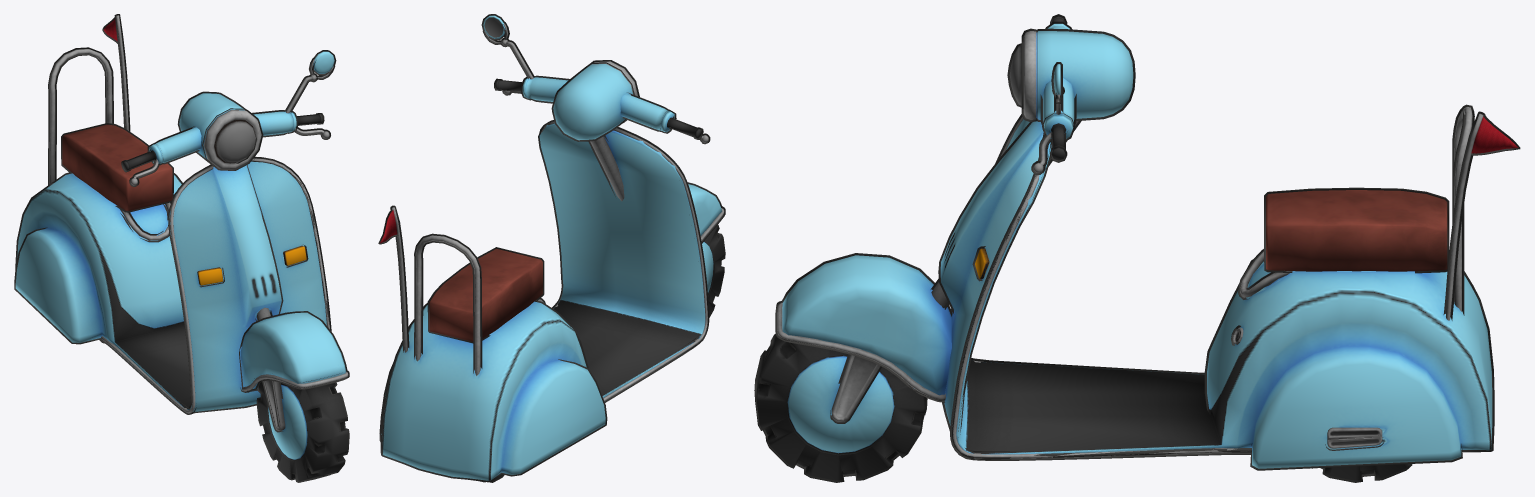
The model's file is motorbike.glb.
3 renders of one model, left to right at view 1: azimuth 30°, elevation 25°; view 2: azimuth 150°, elevation 25°; view 3: azimuth 270°, elevation 25°, orthographic. The views are drawn at different scales.
Parts seen in each view (by area): view 1: Cube.005, Cube.009; view 2: Cube.005, Cube.009; view 3: Cube.005, Cube.009.
Part boxes in pixels (<box>): Cube.005: <box>15,15,348,481</box>; Cube.009: <box>14,14,349,482</box>; Cube.005: <box>380,15,724,480</box>; Cube.009: <box>378,14,725,482</box>; Cube.005: <box>756,16,1518,480</box>; Cube.009: <box>754,14,1520,482</box>.
Bounding box in the file's own units: 300 × 462 × 673.
Materials: 2 (1 with a texture image).
